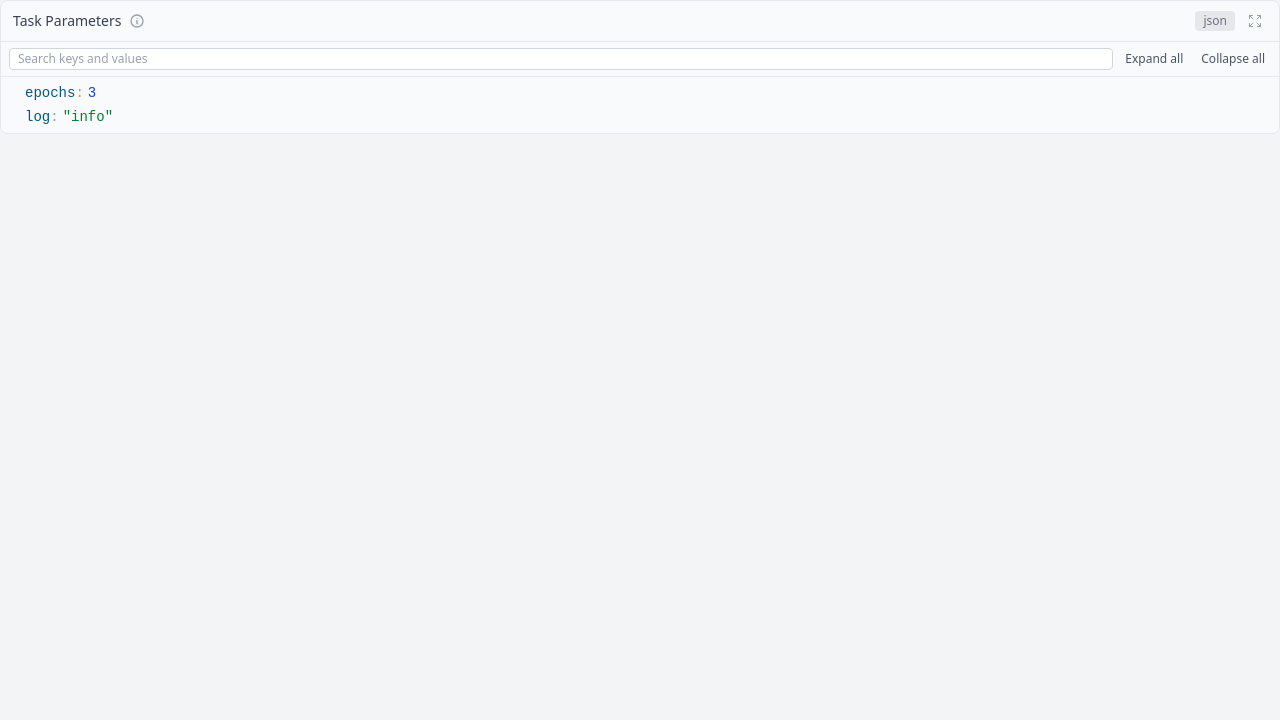
Scenario: TaskParameters › says a single instance has no history
This screenshot has width=1280, height=720.
Check: the text "instances" is not shown
Click the button named "Instance info": click(138, 21) [128,11,148,31]
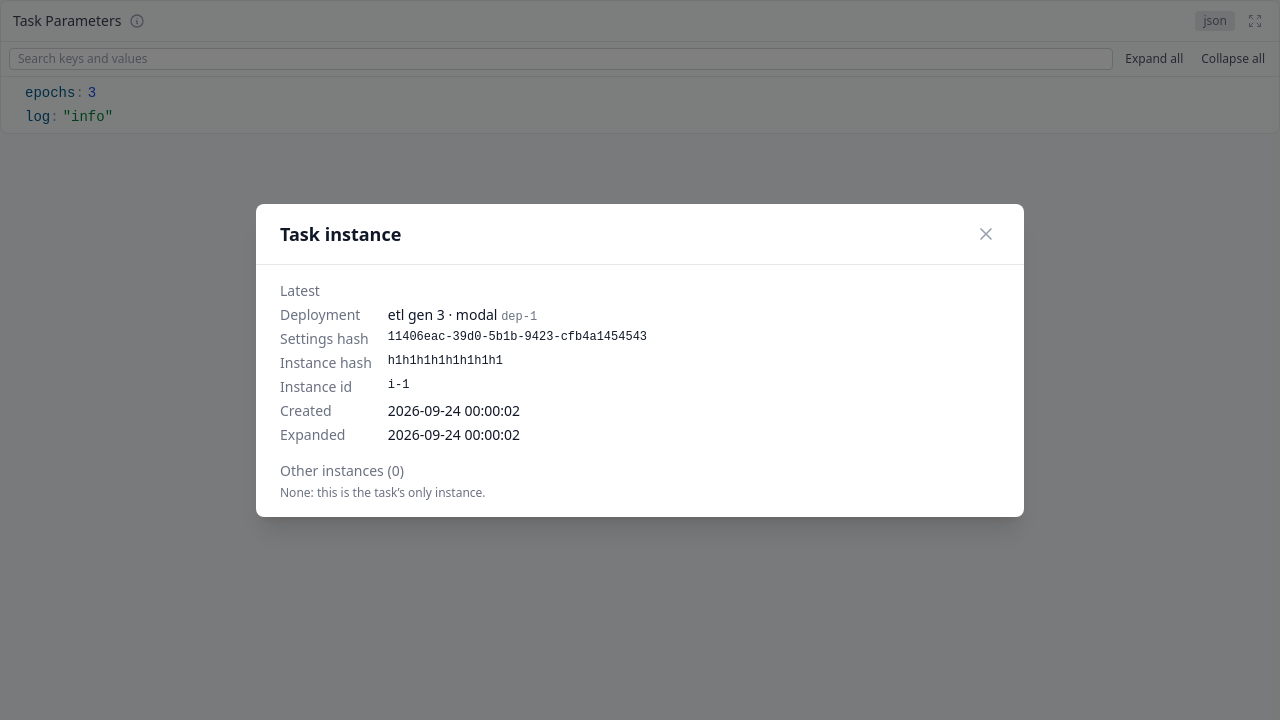
Check: the heading "Latest" is shown, box [280,280,320,300]
Check: the text "None: this is the task’s only instance." is shown, box [280,484,486,500]
